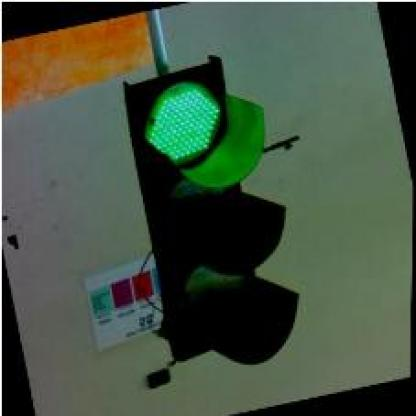green: (110, 44, 315, 377)
